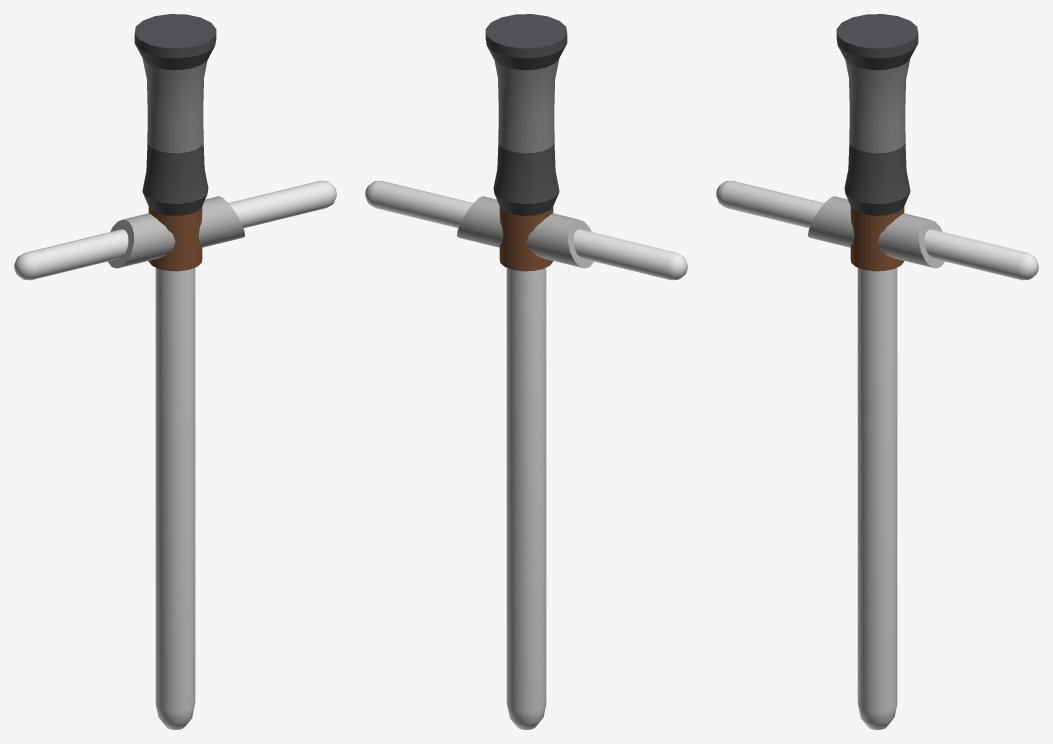
File: Cutter_lightsaber.000.fbx
3 views of the same model, side by side, from view 1: azimuth 30°, elevation 25°; view 2: azimuth 150°, elevation 25°; view 3: azimuth 330°, elevation 25° (orthographic).
Visible parts, largest first — view 1: Cutter_lightsaber.000; view 2: Cutter_lightsaber.000; view 3: Cutter_lightsaber.000.
Part boxes in pixels (x1,y1,x2,y2): Cutter_lightsaber.000: (14, 14, 336, 729); Cutter_lightsaber.000: (365, 14, 687, 729); Cutter_lightsaber.000: (716, 14, 1038, 729).
Size of the model in its own units: 3.11 by 6.5 by 0.695.
